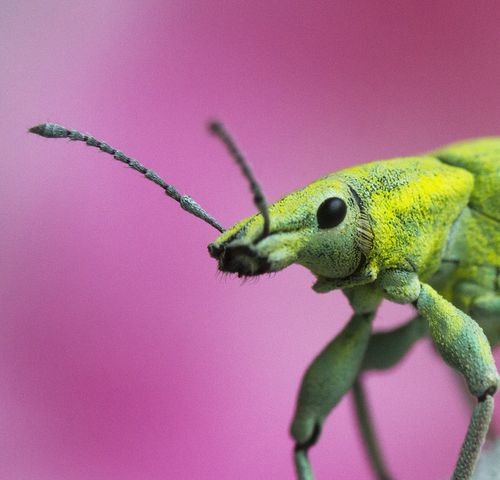Curculionidae: (26, 118, 500, 480)
